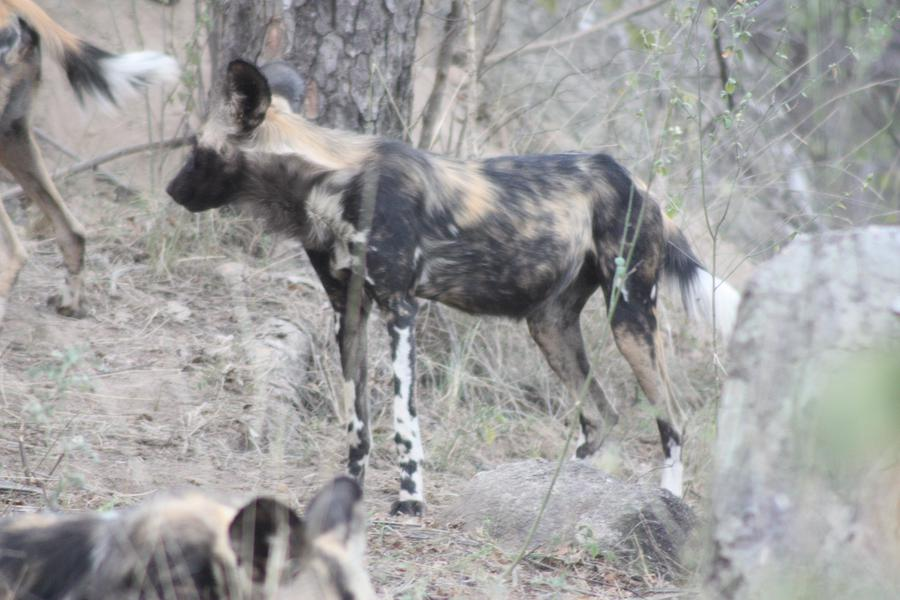wilddog: (212, 87, 682, 352), (31, 485, 356, 600)
